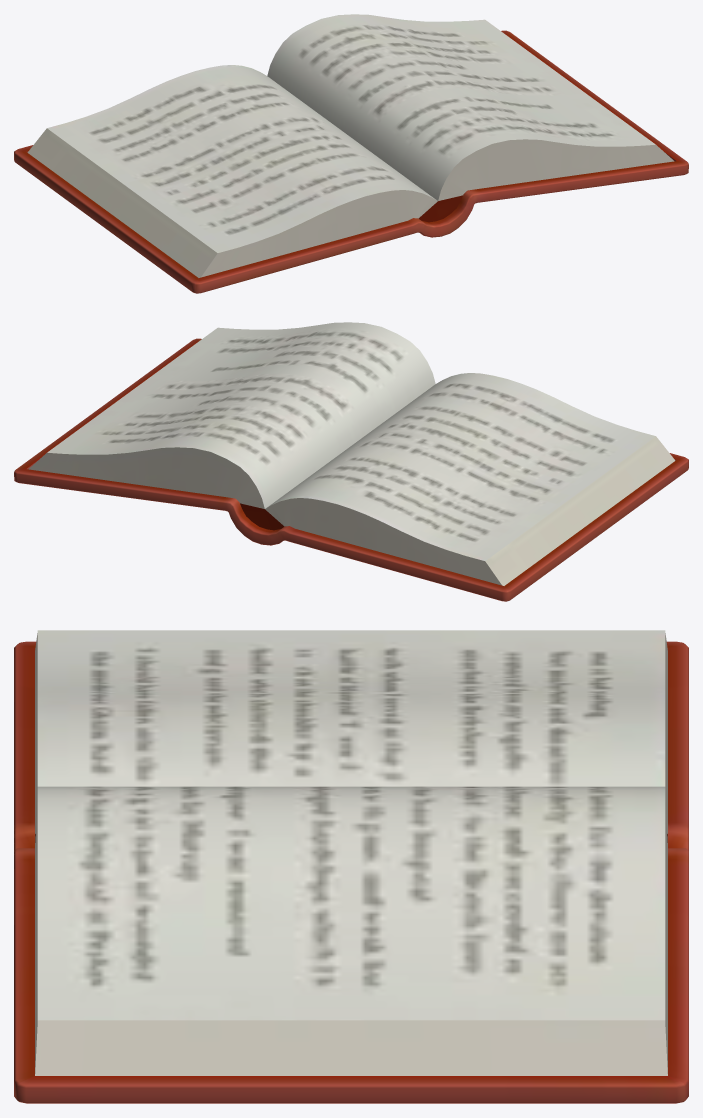
3 renders of one model, top to bottom at view 1: azimuth 30°, elevation 25°; view 2: azimuth 150°, elevation 25°; view 3: azimuth 270°, elevation 25°, orthographic. The views are drawn at different scales.
Bounding box in the file's own units: 7.46 × 1.07 × 4.79.
1 material, 1 textured.
